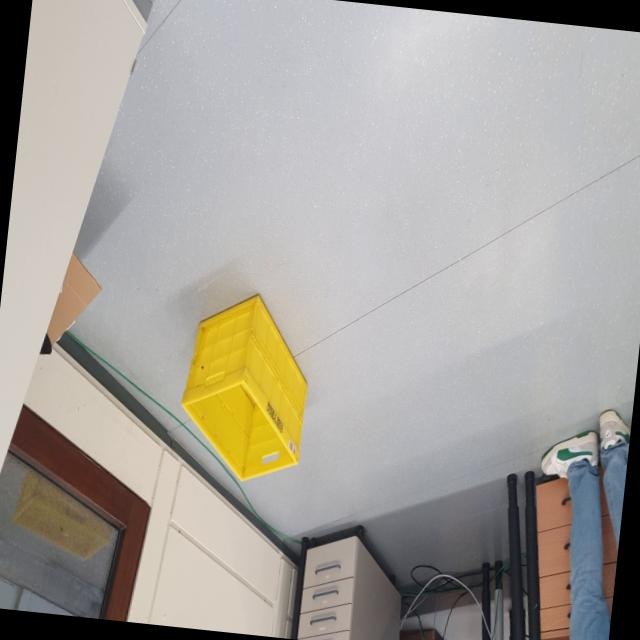box: (164, 286, 318, 494)
